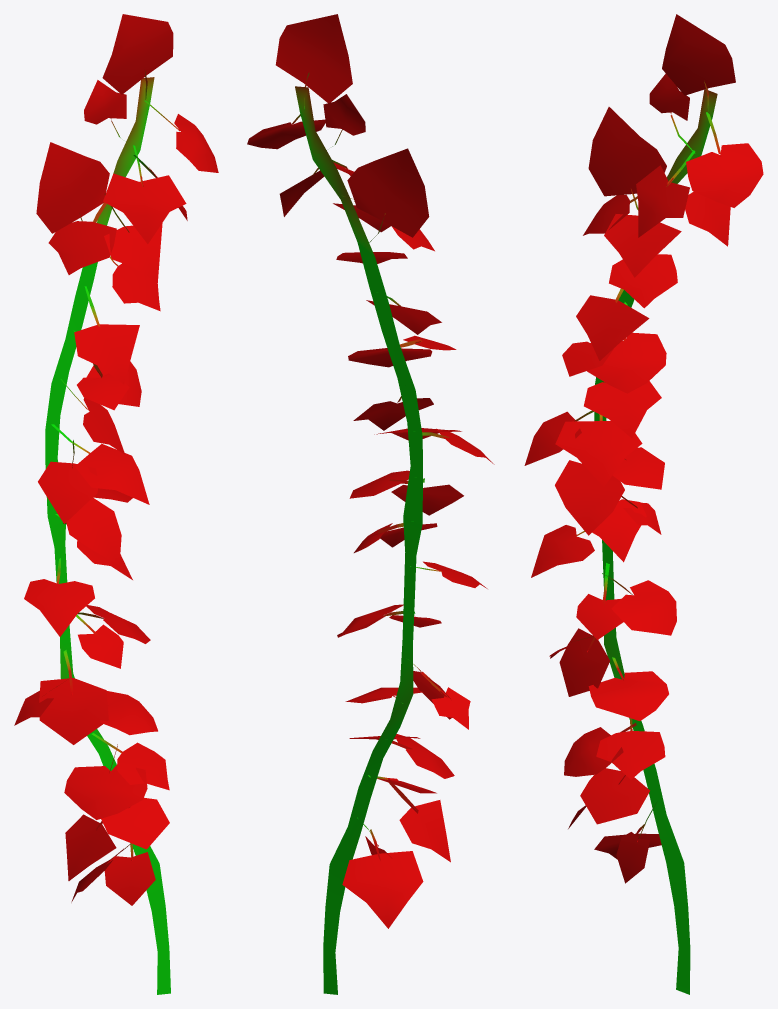
Rendered from Var12_LOD2.fbx.
3 views of the same model, side by side, from view 1: azimuth 30°, elevation 25°; view 2: azimuth 150°, elevation 25°; view 3: azimuth 330°, elevation 25° (orthographic). The views are drawn at different scales.
Parts seen in each view (by area): view 1: _gk9n_Var12_LOD2; view 2: _gk9n_Var12_LOD2; view 3: _gk9n_Var12_LOD2.
Part boxes in pixels (bbox=[...]): _gk9n_Var12_LOD2: bbox=[14, 14, 218, 994]; _gk9n_Var12_LOD2: bbox=[247, 14, 494, 994]; _gk9n_Var12_LOD2: bbox=[524, 14, 763, 994].
Bounding box in the file's own units: 16.49 × 75.76 × 9.53.
